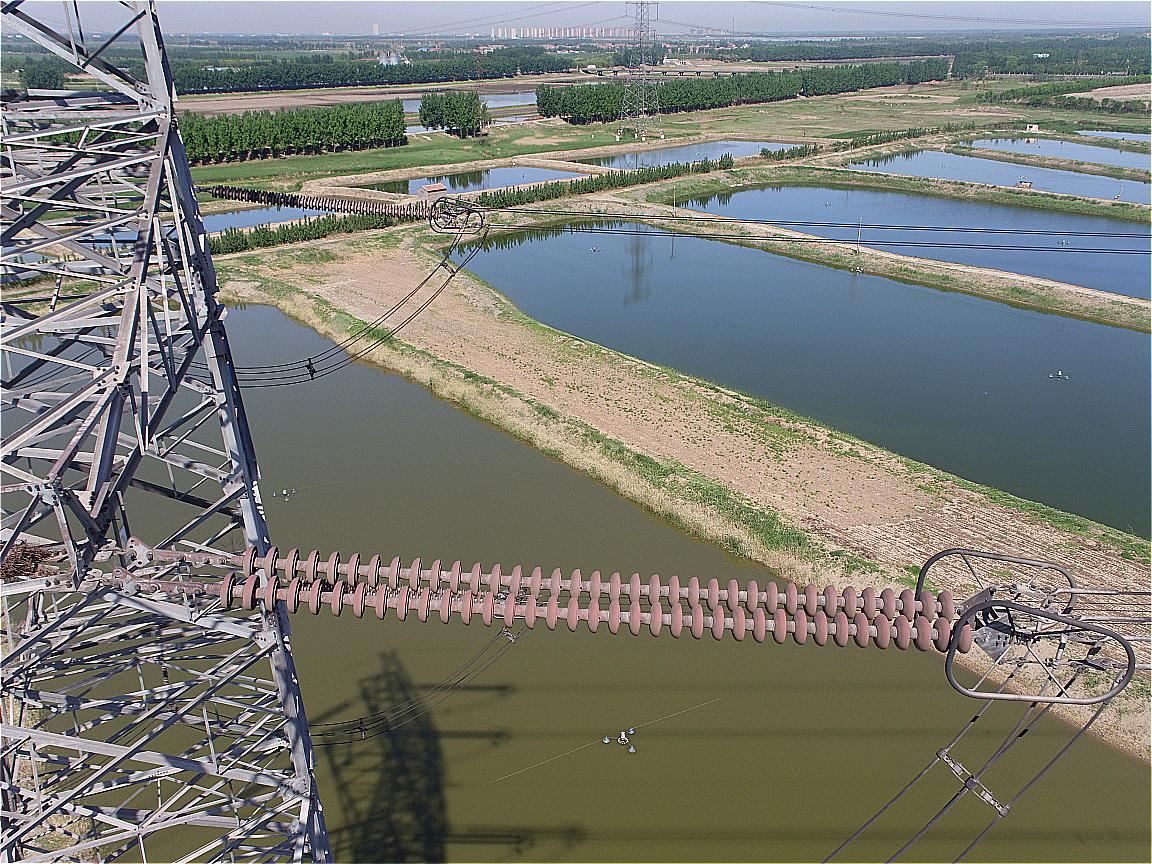insultor1: (195, 539, 997, 669)
